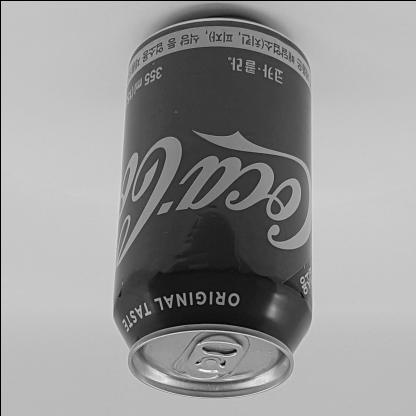alumunium_can: (102, 1, 328, 399)
